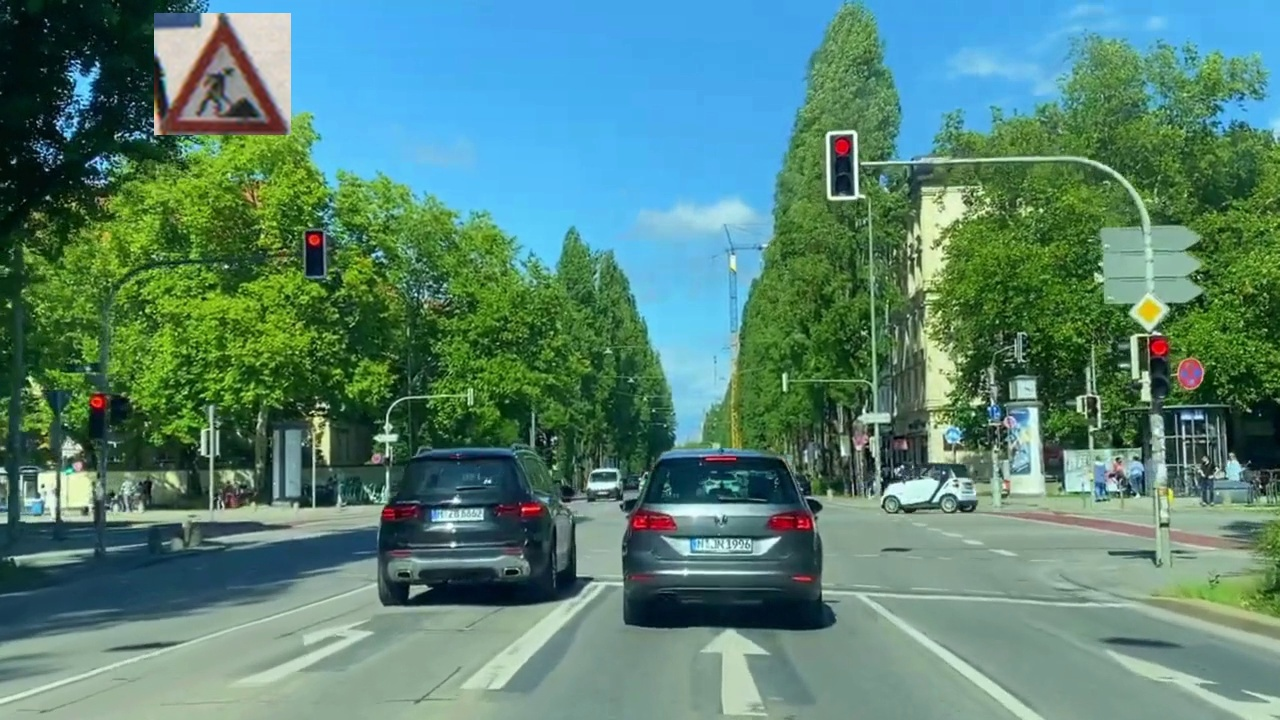Road work: (154, 13, 291, 135)
